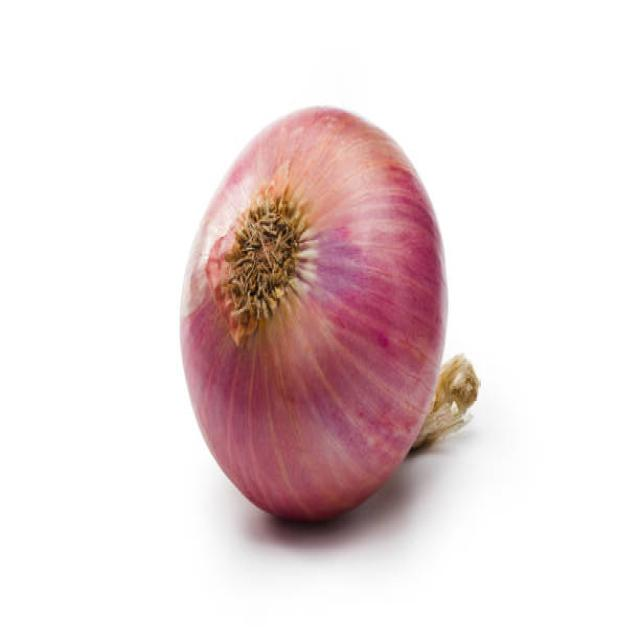onion: (181, 108, 445, 522)
